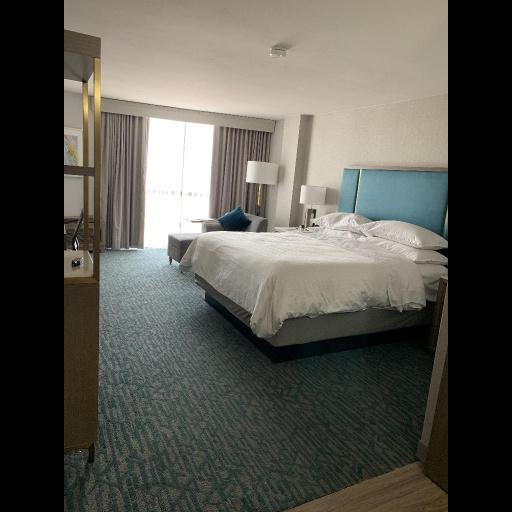clean_bed: (185, 171, 448, 348)
clean_floor: (58, 243, 436, 511)
lamp: (239, 155, 293, 217), (300, 181, 329, 230)
organised_pillow: (308, 208, 454, 264)
